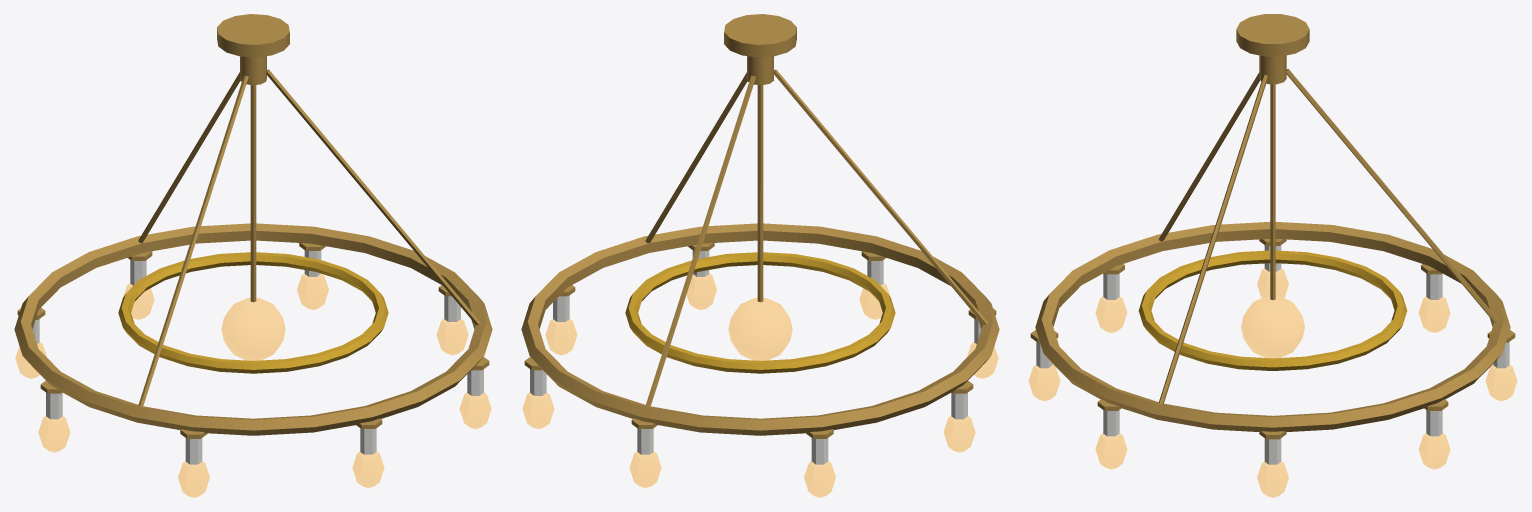
File: ceilinglight_lounge_chandelier_ring.glb
3 renders of one model, left to right at view 1: azimuth 30°, elevation 25°; view 2: azimuth 150°, elevation 25°; view 3: azimuth 270°, elevation 25°, orthographic.
Parts seen in each view (by area): view 1: ceilinglight_lounge_chandelier_ring; view 2: ceilinglight_lounge_chandelier_ring; view 3: ceilinglight_lounge_chandelier_ring.
Boxes of the visible parts, left/top/right/bottom form: ceilinglight_lounge_chandelier_ring: left=14, top=14, right=492, bottom=497; ceilinglight_lounge_chandelier_ring: left=521, top=14, right=999, bottom=497; ceilinglight_lounge_chandelier_ring: left=1028, top=14, right=1517, bottom=497.
Size of the model in its own units: 1.06 by 0.899 by 1.07.
